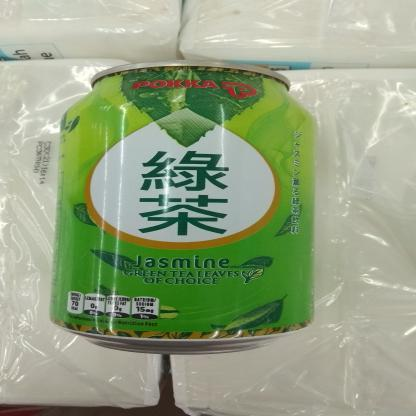bottle: (44, 57, 322, 357)
